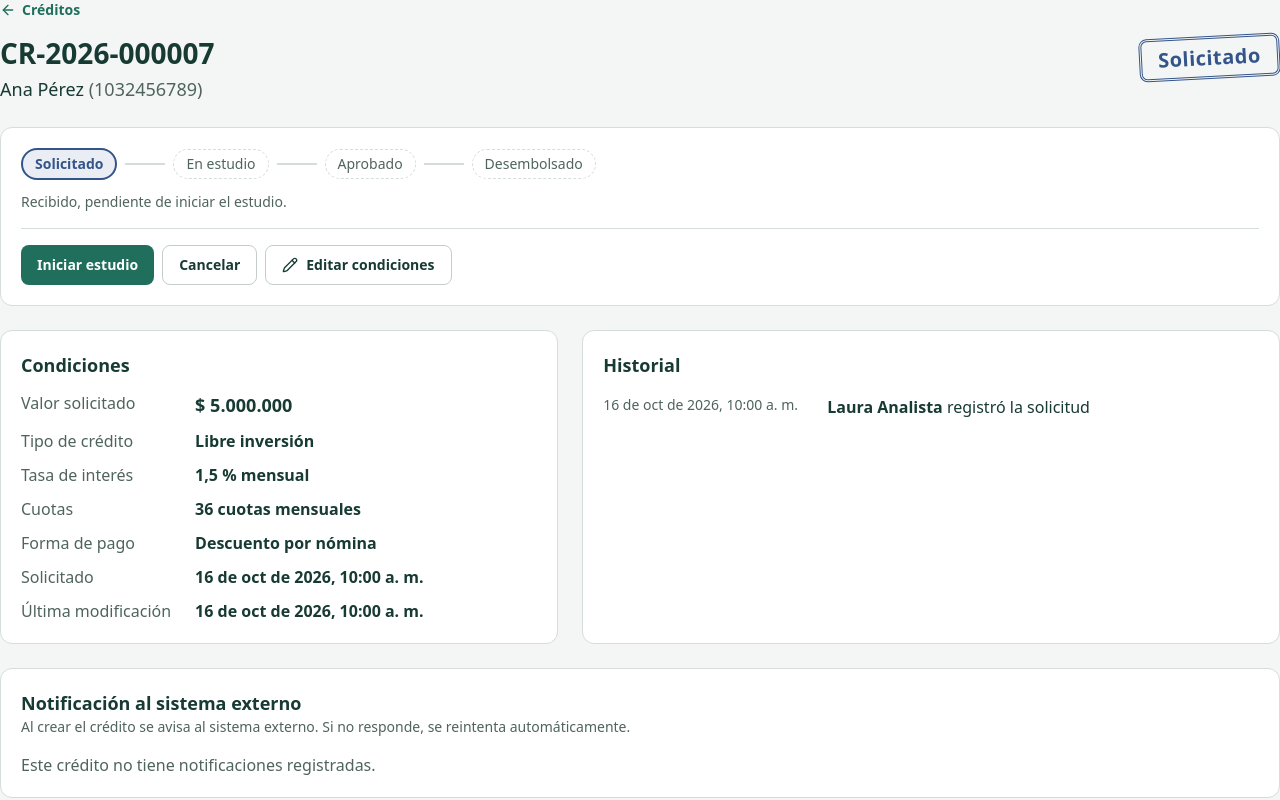
Scenario: DetalleCreditoPage › muestra bajo el campo el motivo obligatorio que exige la API al cancelar
Step 1. Click the button "Cancelar" → (210, 265), box [162, 245, 257, 285]
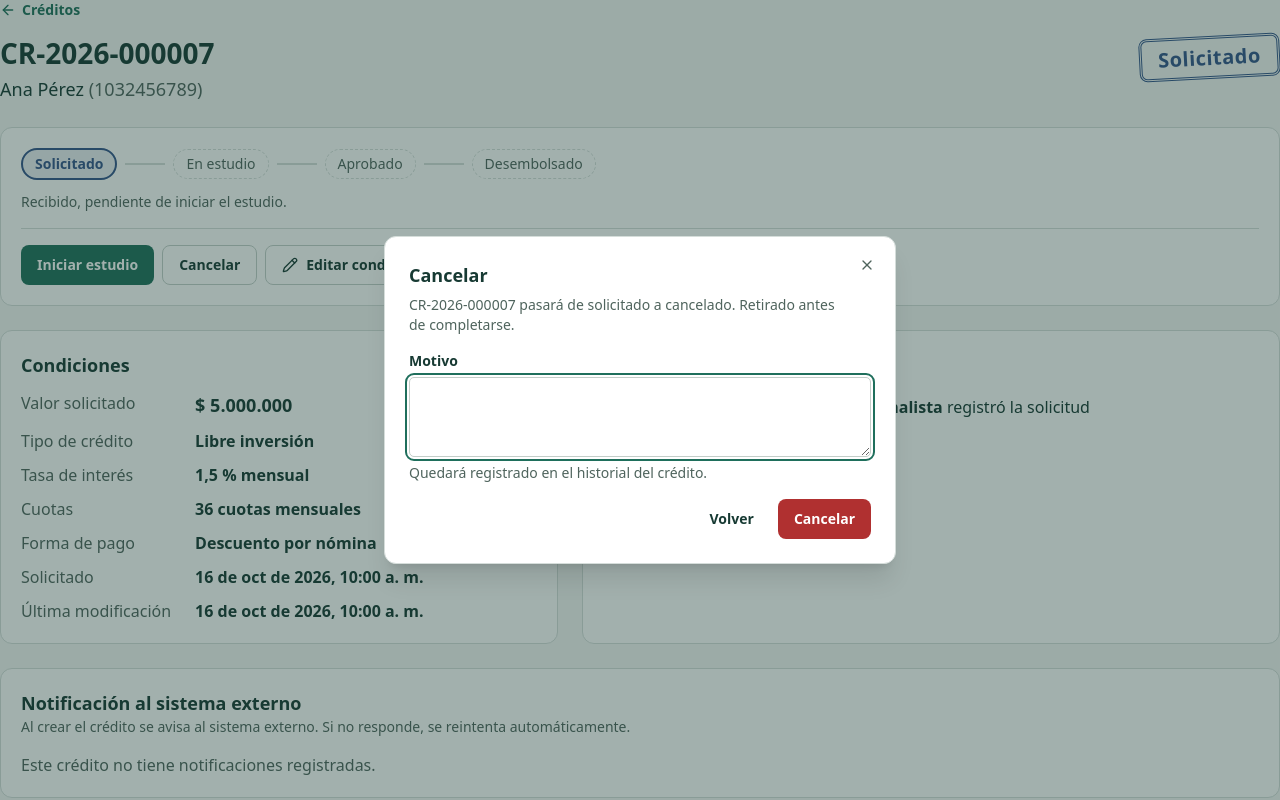
Step 2. Click the button "Cancelar" → (824, 519), box [778, 499, 871, 539]
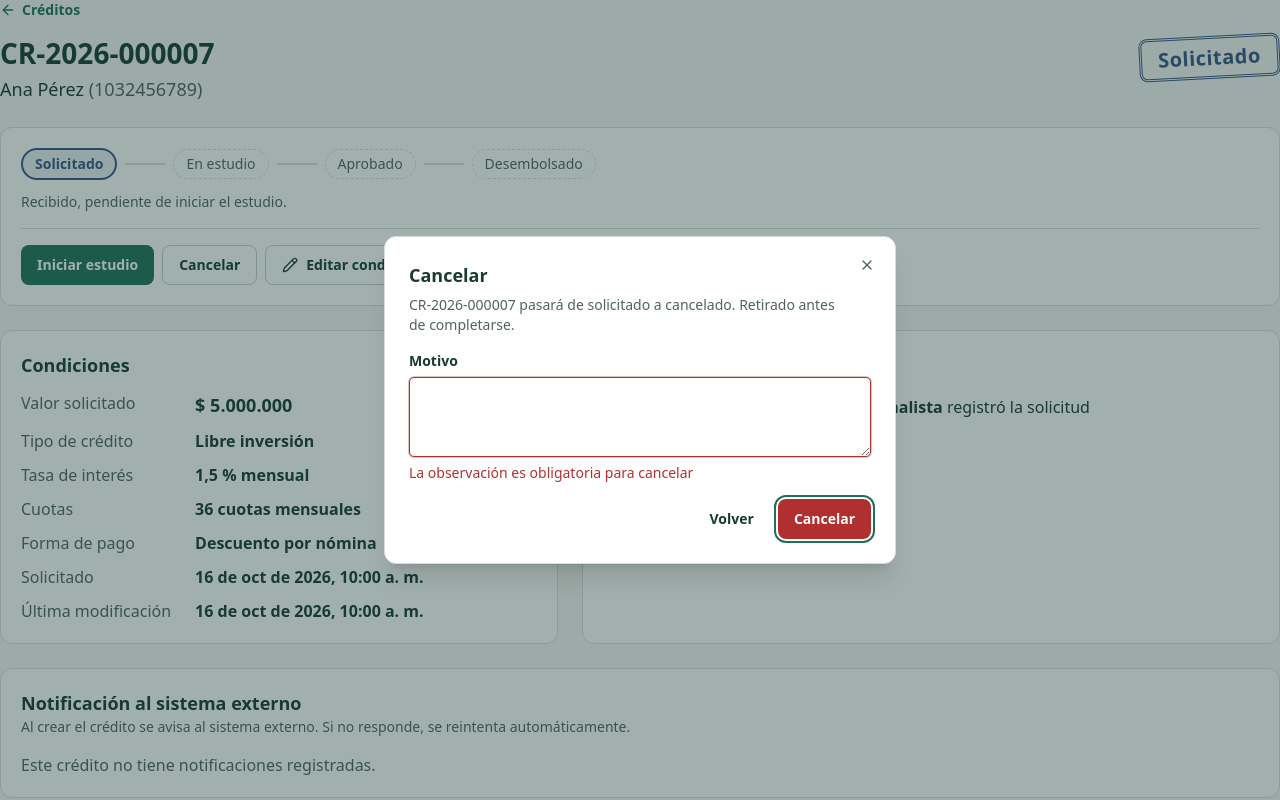
Result: the text "La observación es obligatoria para cancelar" is shown at [409, 463, 693, 482]
